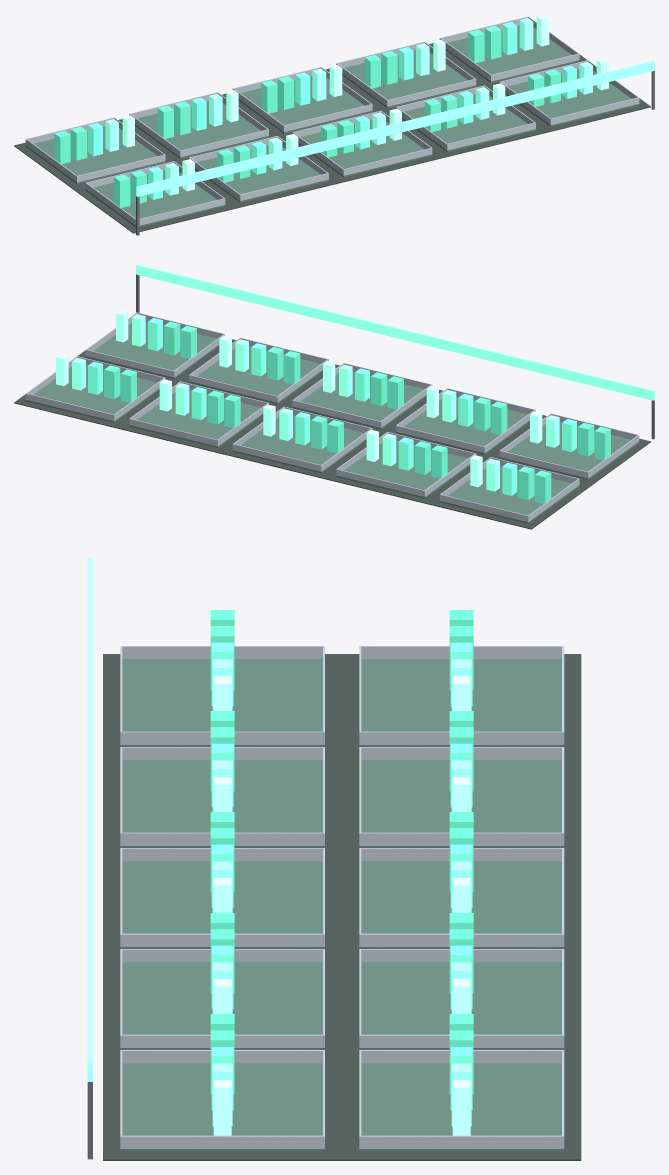
The model's file is pack-multilateral-os.glb.
3 renders of one model, top to bottom at view 1: azimuth 30°, elevation 25°; view 2: azimuth 150°, elevation 25°; view 3: azimuth 270°, elevation 25°, orthographic. The views are drawn at different scales.
Visible parts, largest first — view 1: Cognition.X : Multilateral OS; view 2: Cognition.X : Multilateral OS; view 3: Cognition.X : Multilateral OS.
Part boxes in pixels (x1,y1,x2,y2): Cognition.X : Multilateral OS: (14,14,654,235); Cognition.X : Multilateral OS: (14,264,654,529); Cognition.X : Multilateral OS: (87,558,581,1160).
Size of the model in its own units: 70 by 6.3 by 28.9.
